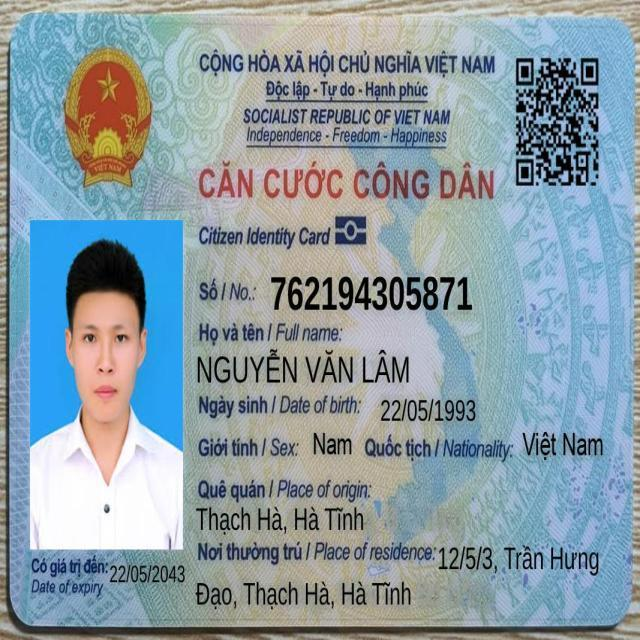current_place: (193, 578, 412, 612), (435, 541, 601, 578)
dob: (379, 396, 478, 426)
expire_date: (108, 560, 187, 586)
gender: (311, 428, 354, 461)
id: (268, 272, 475, 315)
name: (195, 346, 411, 387)
nationality: (521, 427, 605, 464)
origin_place: (193, 503, 366, 537)
